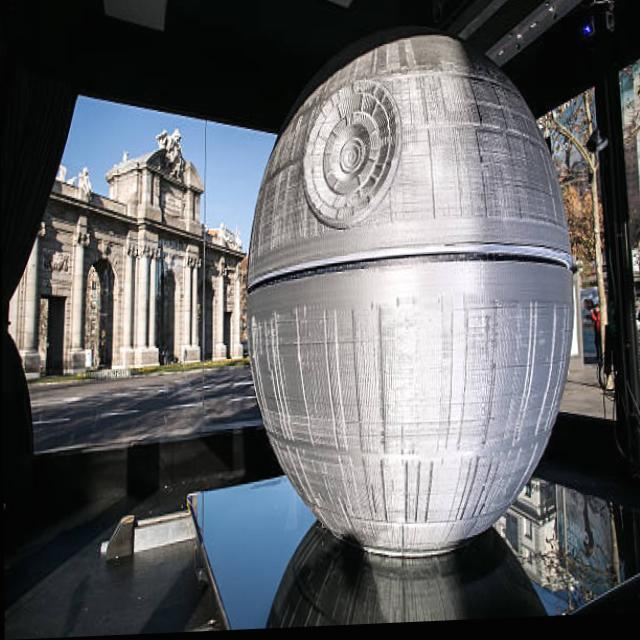deathStar: (241, 31, 583, 570)
